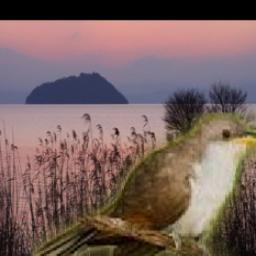Cuckoo: (31, 113, 256, 256)
